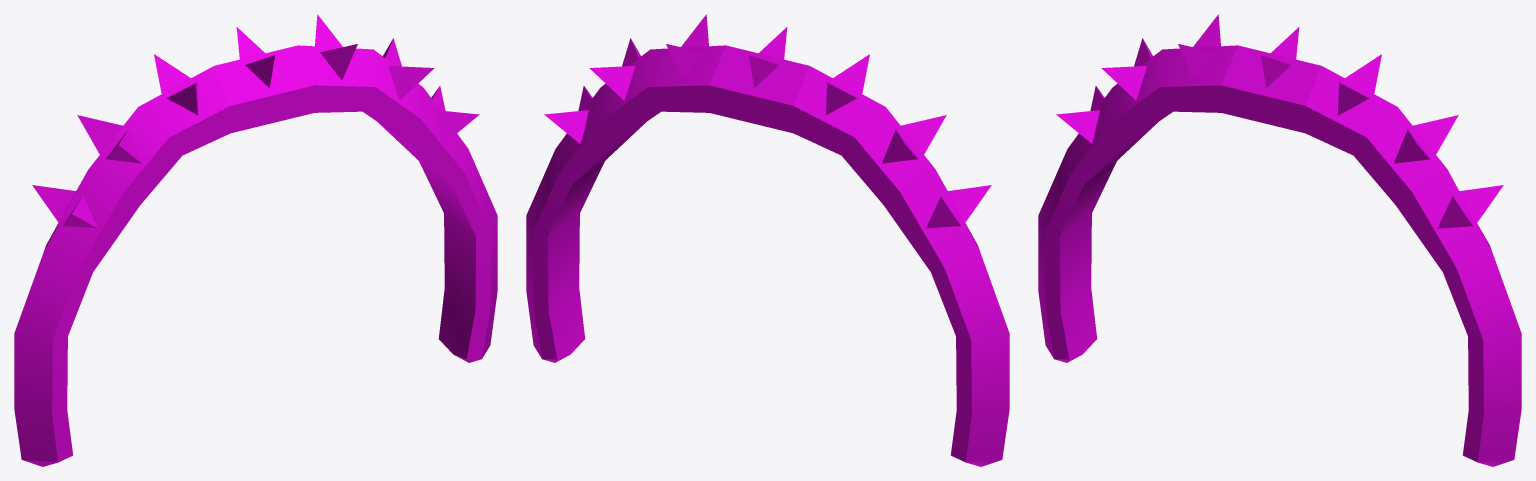
Rendered from Headband_Model.fbx.
3 views of the same model, side by side, from view 1: azimuth 30°, elevation 25°; view 2: azimuth 150°, elevation 25°; view 3: azimuth 330°, elevation 25° (orthographic).
Visible parts, largest first — view 1: Headband; view 2: Headband; view 3: Headband.
Boxes of the visible parts, <box> form: Headband: <box>14,14,497,466</box>; Headband: <box>526,14,1009,466</box>; Headband: <box>1038,14,1521,466</box>.
Size of the model in its own units: 293 by 217 by 43.4.
